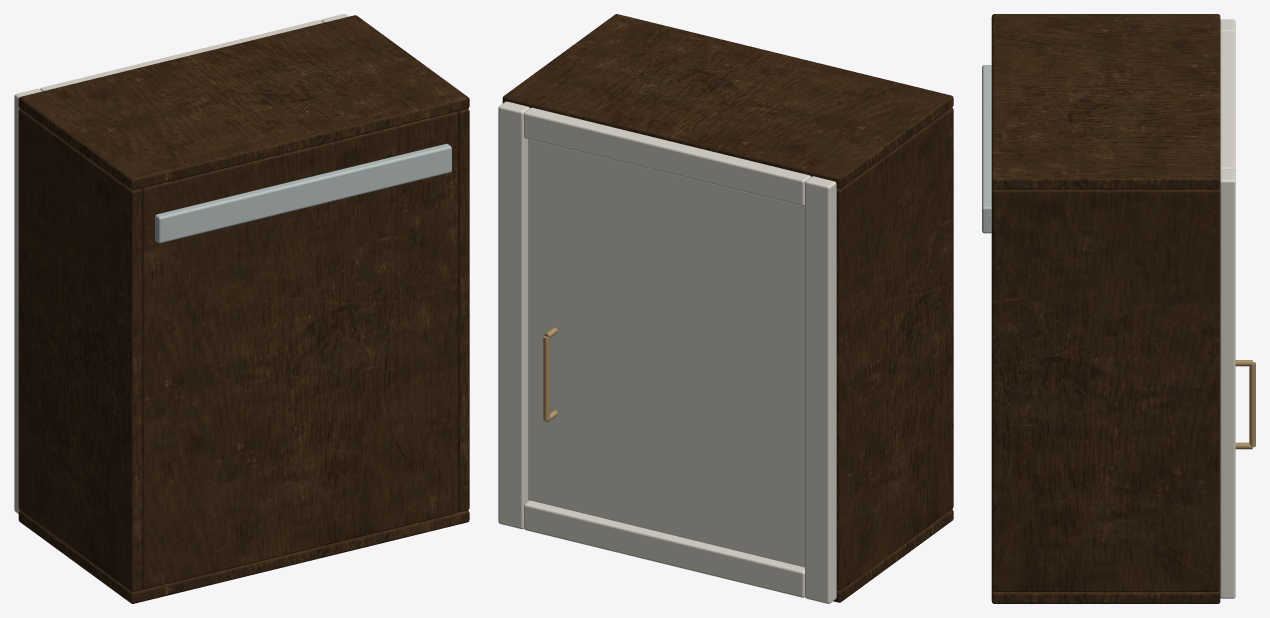
Rendered from cabinet-wall-shaker.glb.
3 views of the same model, side by side, from view 1: azimuth 30°, elevation 25°; view 2: azimuth 150°, elevation 25°; view 3: azimuth 270°, elevation 25° (orthographic).
Visible parts, largest first — view 1: oak_surfaces, steel_surfaces, cream_surfaces; view 2: cream_surfaces, oak_surfaces, bronze_surfaces; view 3: oak_surfaces, cream_surfaces, steel_surfaces, bronze_surfaces.
Boxes of the visible parts, box(x1,y1,x2,y2) form: oak_surfaces: box(18, 15, 469, 603); steel_surfaces: box(155, 143, 451, 243); cream_surfaces: box(14, 14, 348, 513); cream_surfaces: box(498, 101, 836, 603); oak_surfaces: box(502, 14, 953, 602); bronze_surfaces: box(543, 327, 557, 422); oak_surfaces: box(991, 14, 1220, 603); cream_surfaces: box(1219, 19, 1235, 598); steel_surfaces: box(982, 65, 991, 233); bronze_surfaces: box(1235, 360, 1255, 449).
Bounding box in the file's own units: 0.6 × 0.72 × 0.4195.
4 materials, 1 textured.
